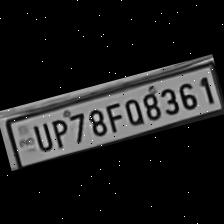1: (194, 72, 216, 106)
3: (156, 82, 181, 116)
6: (173, 77, 200, 112)
7: (63, 107, 90, 144)
8: (82, 104, 110, 140), (138, 87, 164, 123)
F: (100, 99, 125, 134)
P: (46, 112, 72, 149)
U: (28, 118, 54, 153)
q: (119, 92, 145, 127)
